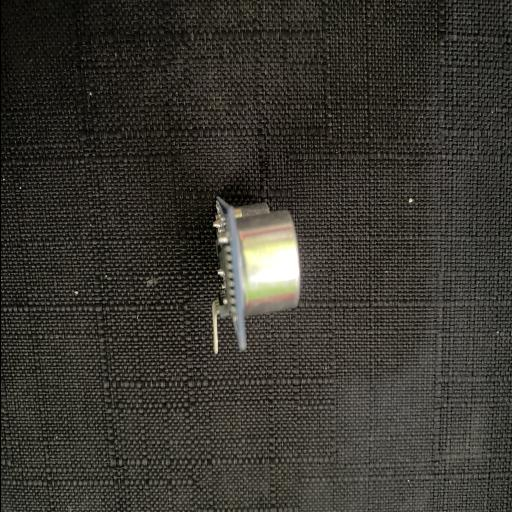Ultrasonic Sensor: (210, 194, 300, 358)
